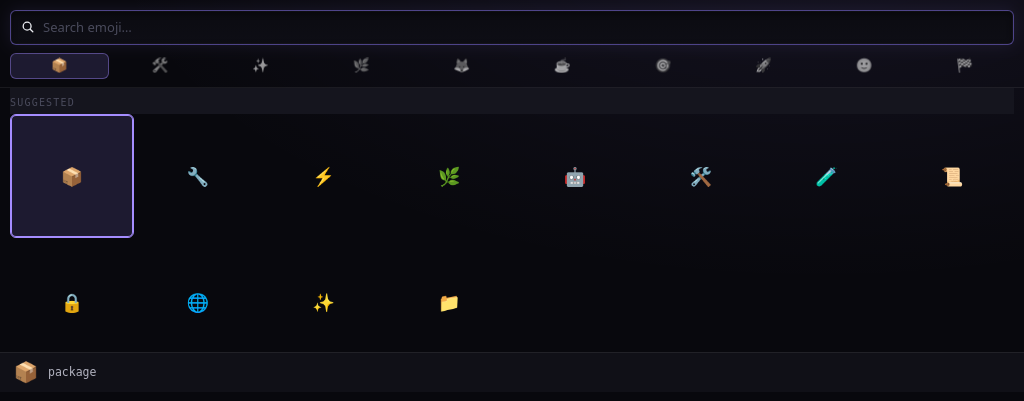
Test: EmojiPicker › pasting two emoji shows the two-emoji message, not the generic no-match
The width and height of the screenshot is (1024, 401).
Type "🤖🦊" into the field labelled "Search emoji". click: [523, 27]
box: [43,18,1003,37]
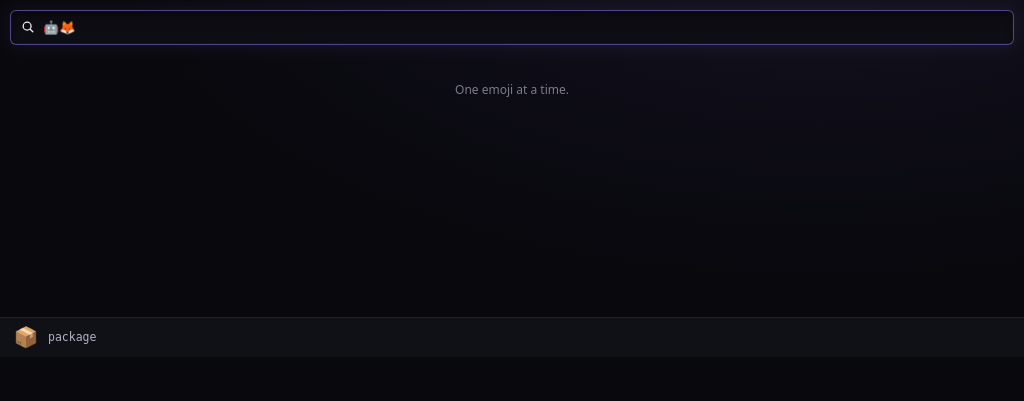
Check: the text "One emoji at a time." is shown, box [455,81,569,98]
